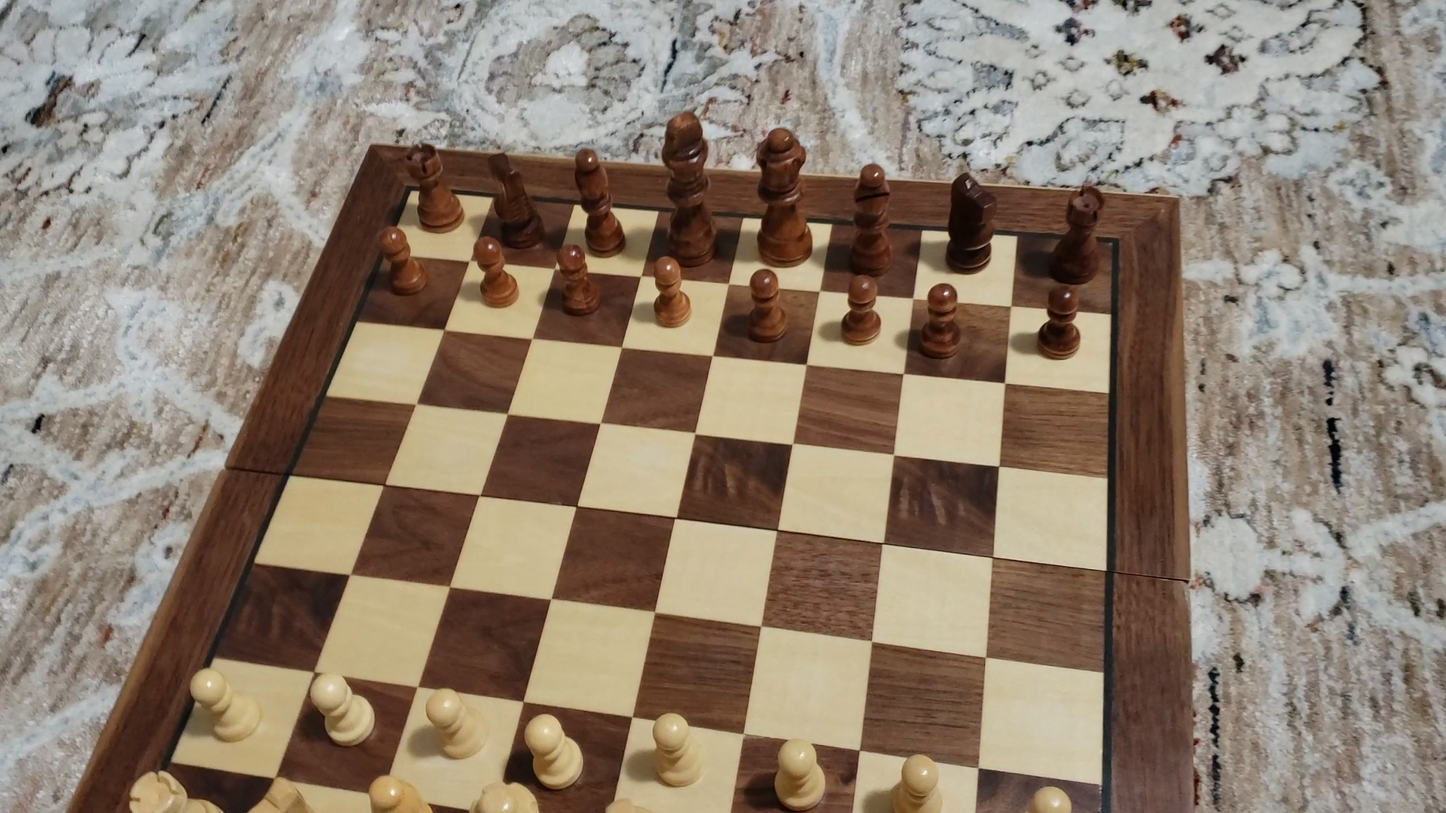black-bishop: (660, 108, 716, 268), (573, 145, 625, 257), (850, 160, 893, 277)
black-knight: (487, 148, 543, 250), (944, 169, 998, 273)
black-pawn: (1035, 283, 1084, 362), (376, 224, 427, 298), (473, 234, 520, 310), (744, 265, 789, 344), (919, 280, 962, 361), (649, 253, 693, 330), (554, 243, 599, 317), (840, 271, 883, 348)
black-queen: (754, 123, 812, 265)
black-rook: (1046, 181, 1107, 285), (405, 140, 464, 234)
white-pawn: (184, 664, 268, 747), (306, 669, 381, 751), (522, 711, 587, 794), (419, 684, 487, 763), (647, 708, 709, 791), (767, 735, 833, 812)
